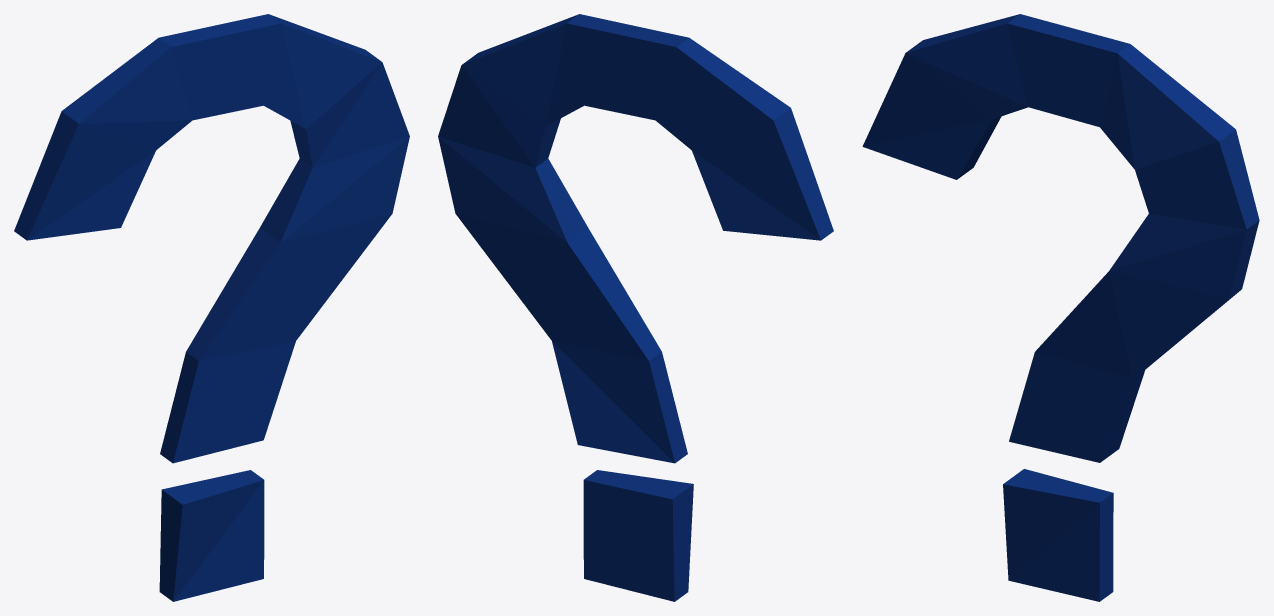
File: Sign_3.fbx
3 renders of one model, left to right at view 1: azimuth 30°, elevation 25°; view 2: azimuth 150°, elevation 25°; view 3: azimuth 330°, elevation 25°, orthographic.
Visible parts, largest first — view 1: Sign_3; view 2: Sign_3; view 3: Sign_3.
Part boxes in pixels (box(x1,y1,x2,y2)): Sign_3: box(14, 14, 409, 601); Sign_3: box(438, 14, 833, 601); Sign_3: box(862, 14, 1259, 601).
Bounding box in the file's own units: 131 × 181 × 16.02.
